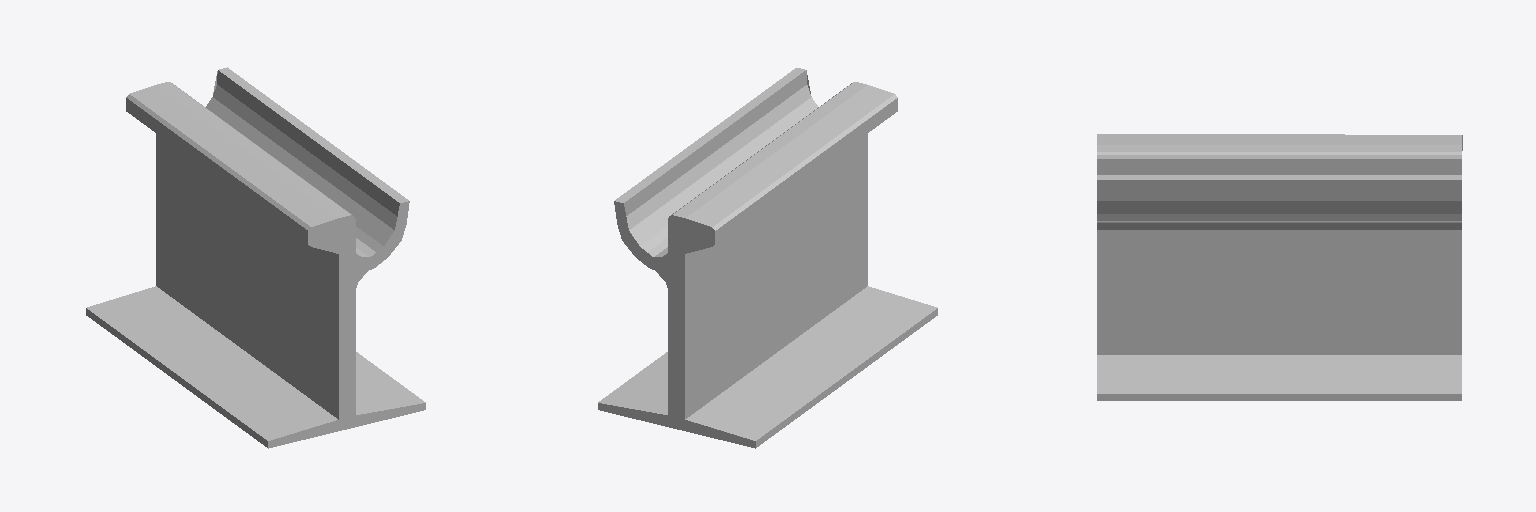
Rendered from Rail.obj.
3 renders of one model, left to right at view 1: azimuth 30°, elevation 25°; view 2: azimuth 150°, elevation 25°; view 3: azimuth 270°, elevation 25°, orthographic.
Visible parts, largest first — view 1: Plane; view 2: Plane; view 3: Plane.
Part boxes in pixels (x1,y1,x2,y2): Plane: (86, 67, 425, 448); Plane: (598, 68, 937, 448); Plane: (1097, 134, 1462, 400).
Bounding box in the file's own units: 2.67 × 3.44 × 5.34.